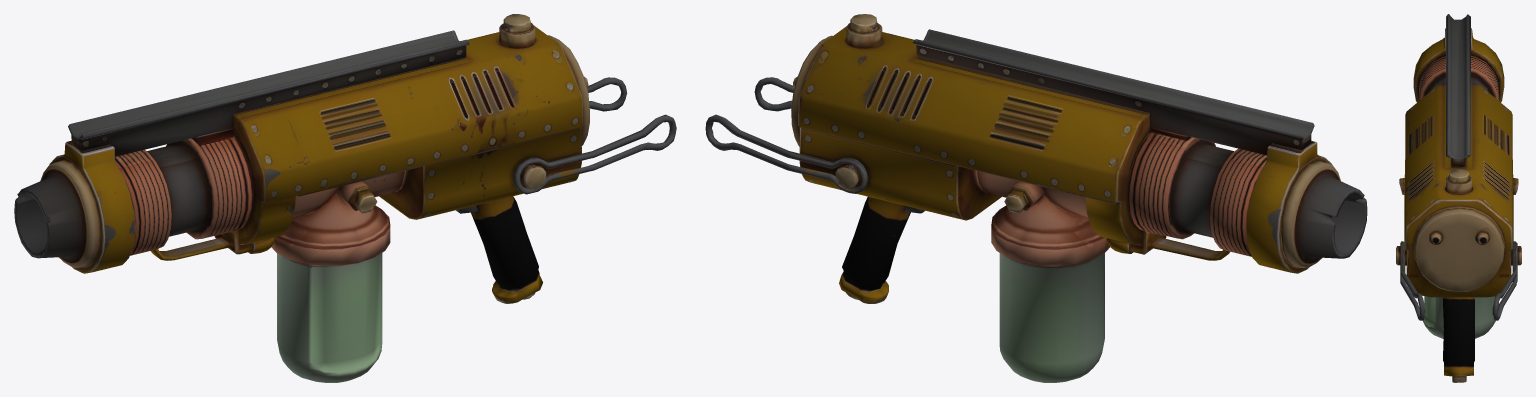
File: asset_pack_item_glb-vd7fm7jh9n4pdmfxcqf3jxeps98c808x-1-ks73mh9z7mw80epz7eb5h5k7hn8c8ztj.glb
3 views of the same model, side by side, from view 1: azimuth 30°, elevation 25°; view 2: azimuth 150°, elevation 25°; view 3: azimuth 270°, elevation 25° (orthographic). The views are drawn at different scales.
Visible parts, largest first — view 1: Arcwelder Coil Caster; view 2: Arcwelder Coil Caster; view 3: Arcwelder Coil Caster.
Boxes of the visible parts, x1,y1,x2,y2 form: Arcwelder Coil Caster: [14, 14, 676, 382]; Arcwelder Coil Caster: [705, 14, 1367, 382]; Arcwelder Coil Caster: [1396, 14, 1521, 382].
Bounding box in the file's own units: 0.998 × 0.4746 × 0.2363.
Materials: 1 (1 with a texture image).
